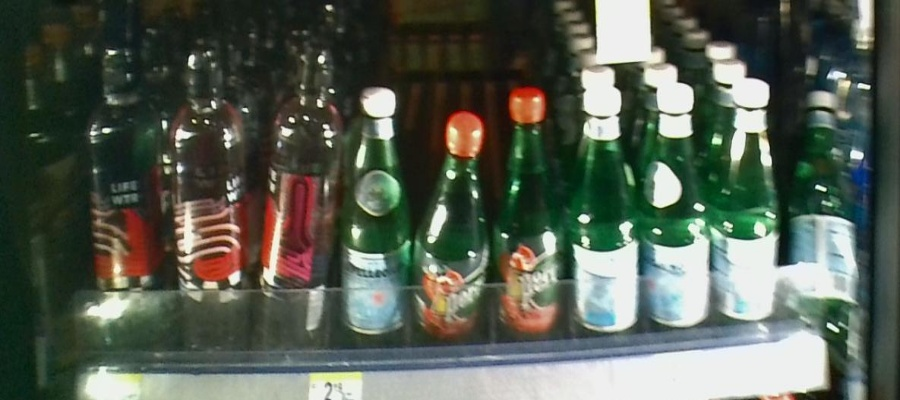bottle: (169, 26, 256, 365), (84, 25, 164, 368), (264, 29, 343, 365), (716, 72, 795, 338), (418, 101, 493, 365), (347, 71, 411, 368), (644, 82, 710, 348), (500, 78, 562, 359), (571, 77, 633, 358)
